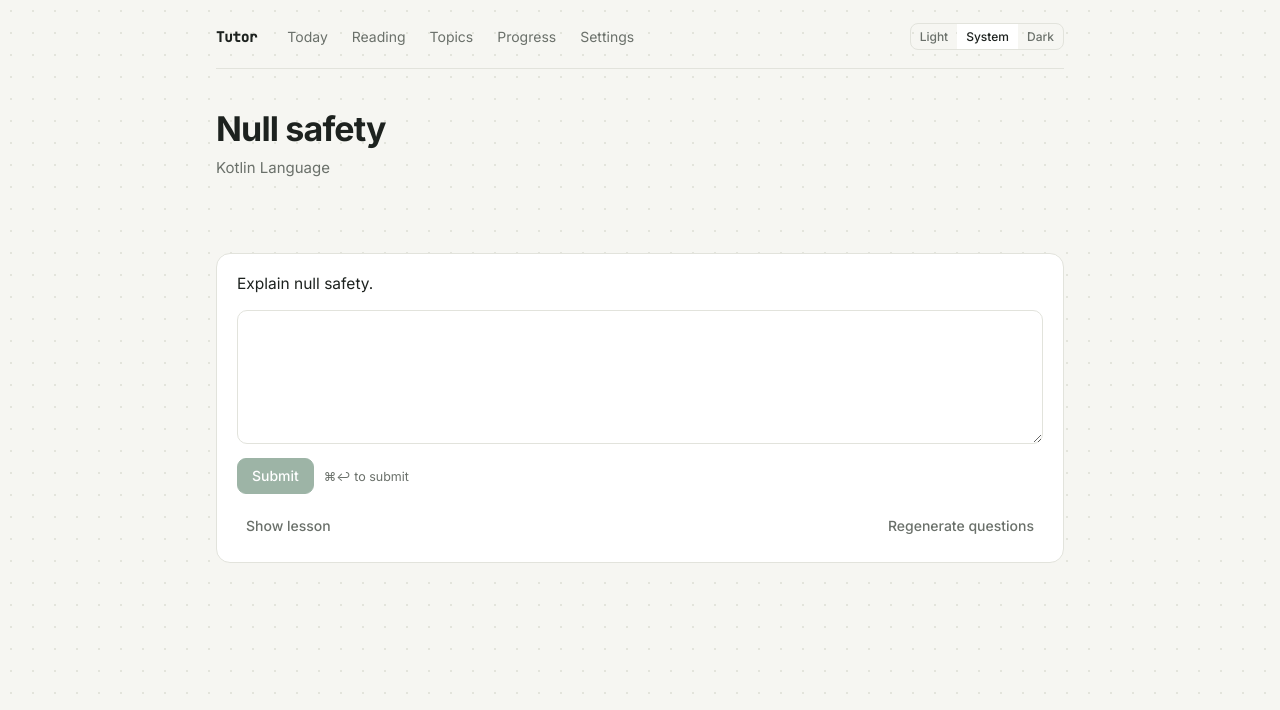
appeal button disappears after one appeal
Type "x" into the text box at (640, 377), box left=237, top=310, right=1043, bottom=444
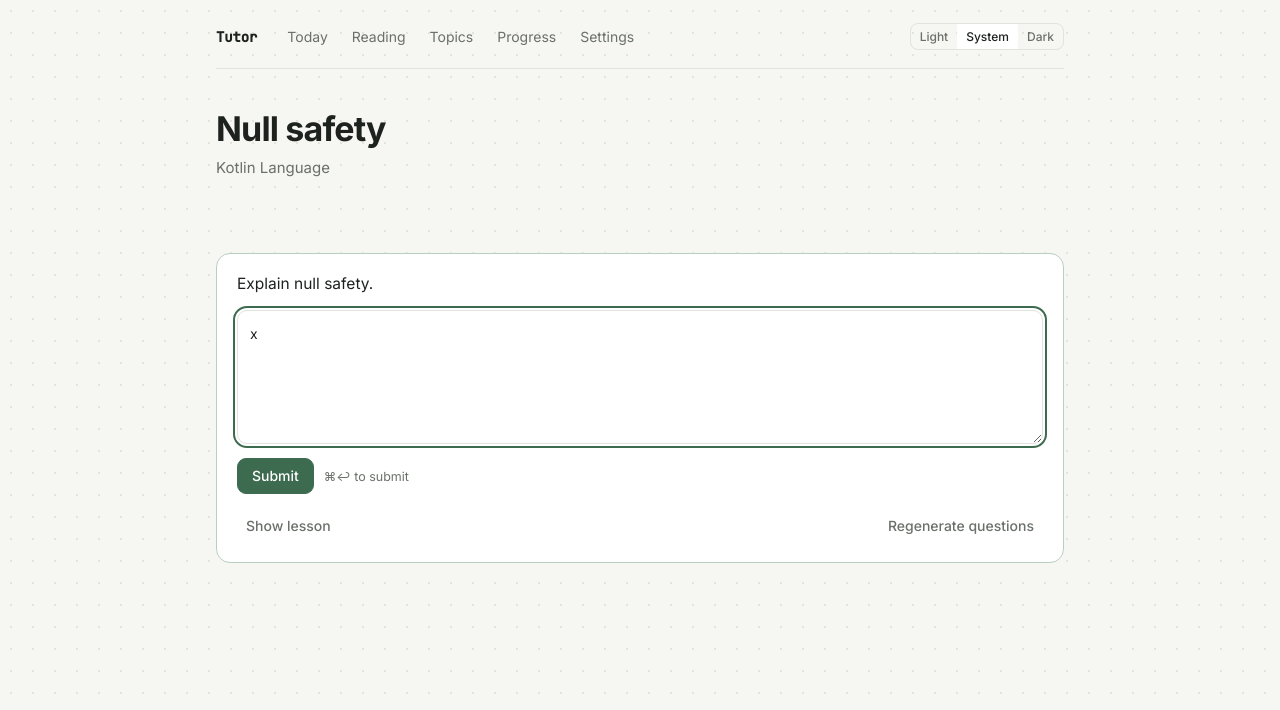
Click the button "Submit" at (275, 476), box left=237, top=458, right=314, bottom=494
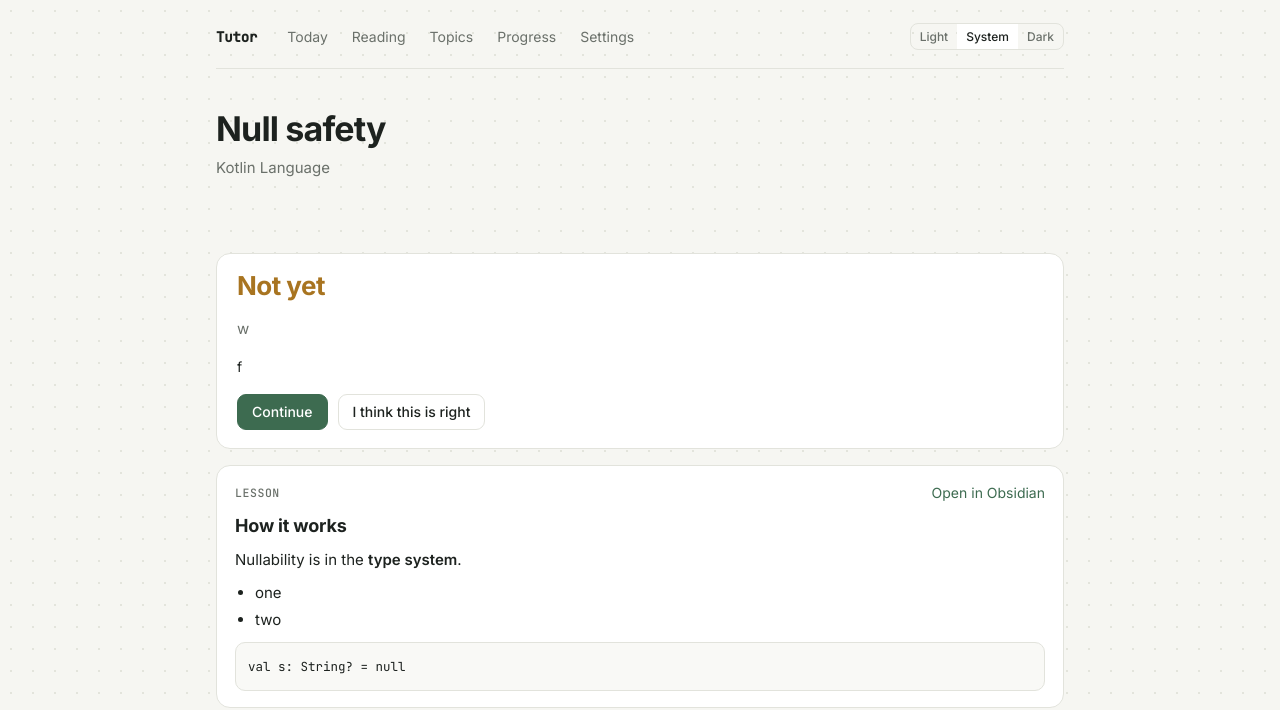
Click the button "I think this is right" at (412, 412), box left=338, top=394, right=486, bottom=430
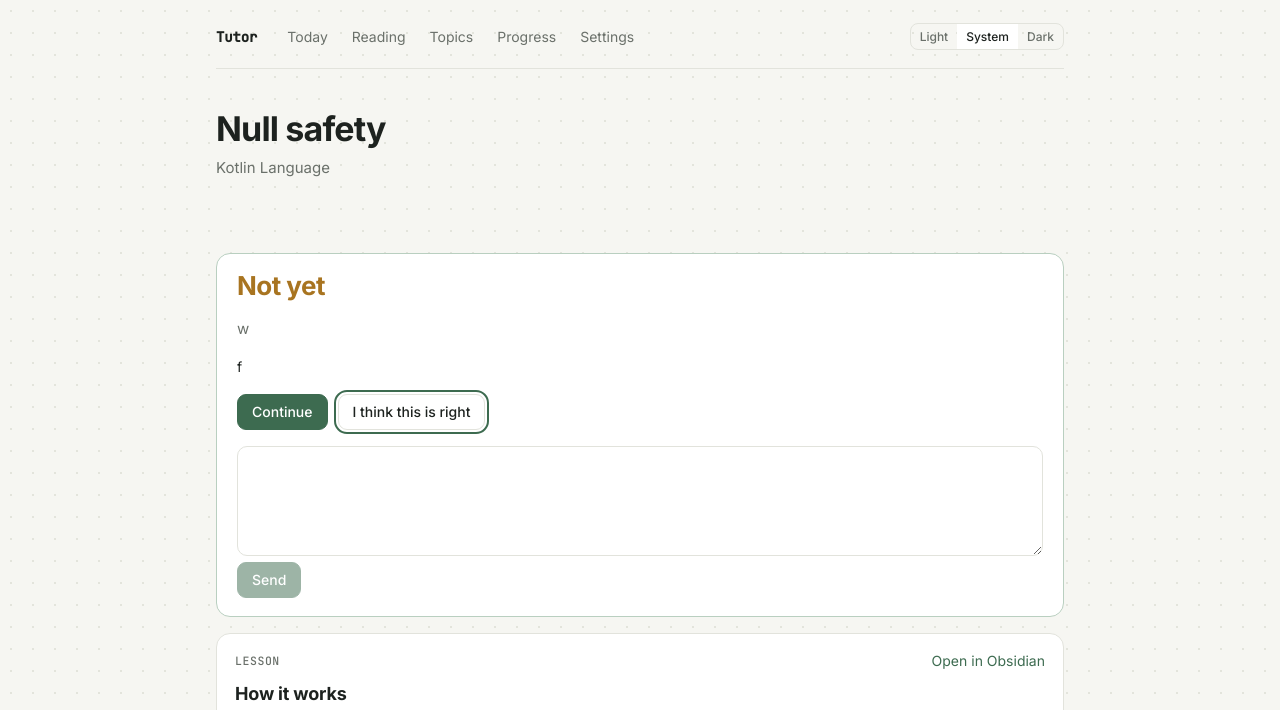
Type "r" into the text box named "Why your answer is right" at (640, 501), box left=237, top=446, right=1043, bottom=556
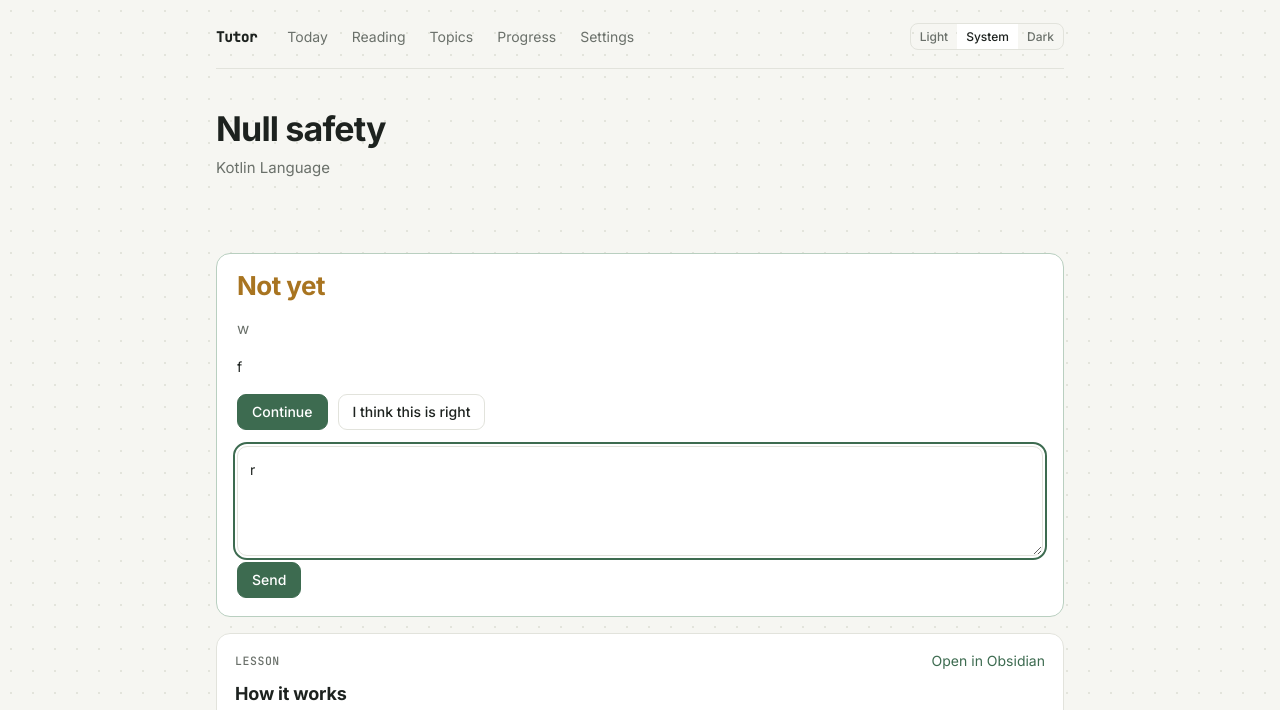
Click the button "Send" at (269, 580), box left=237, top=562, right=301, bottom=598
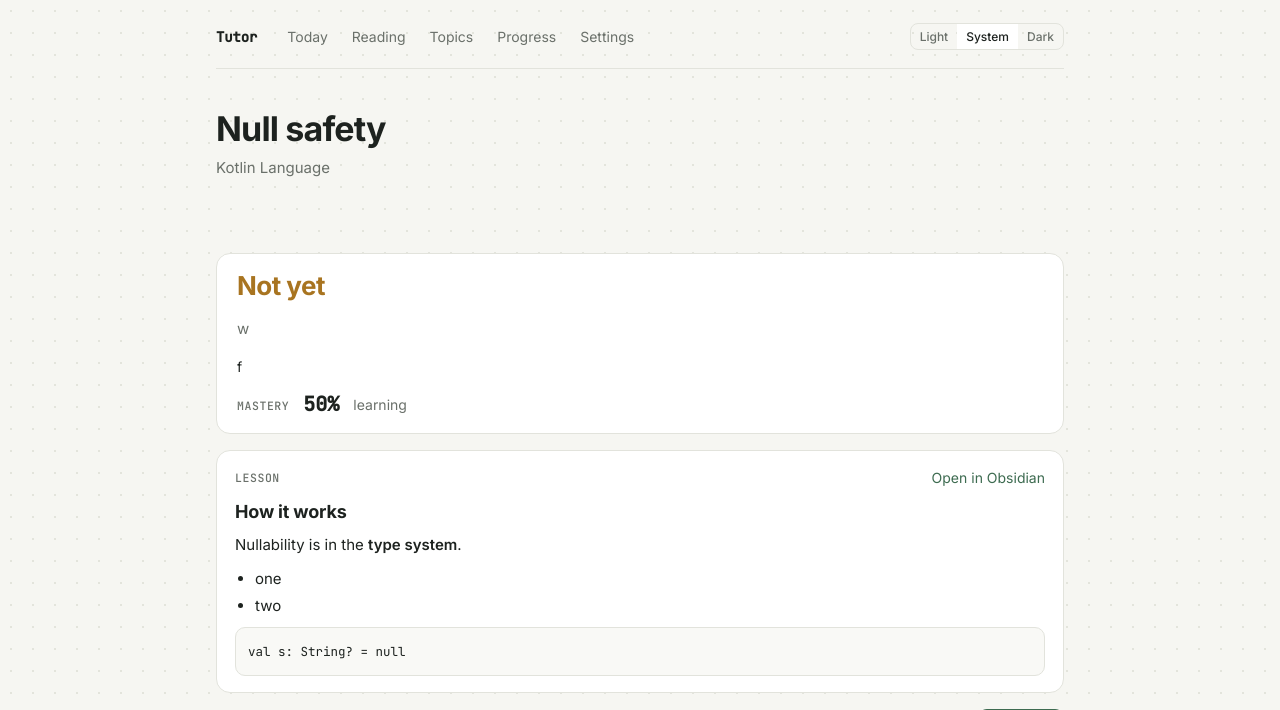
Result: the button "I think this is right" is gone
